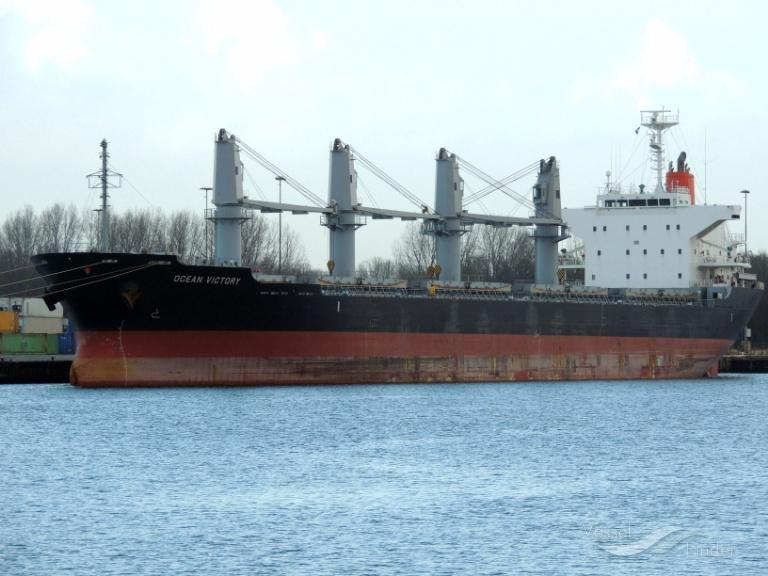OCR: (170, 272, 240, 294)
